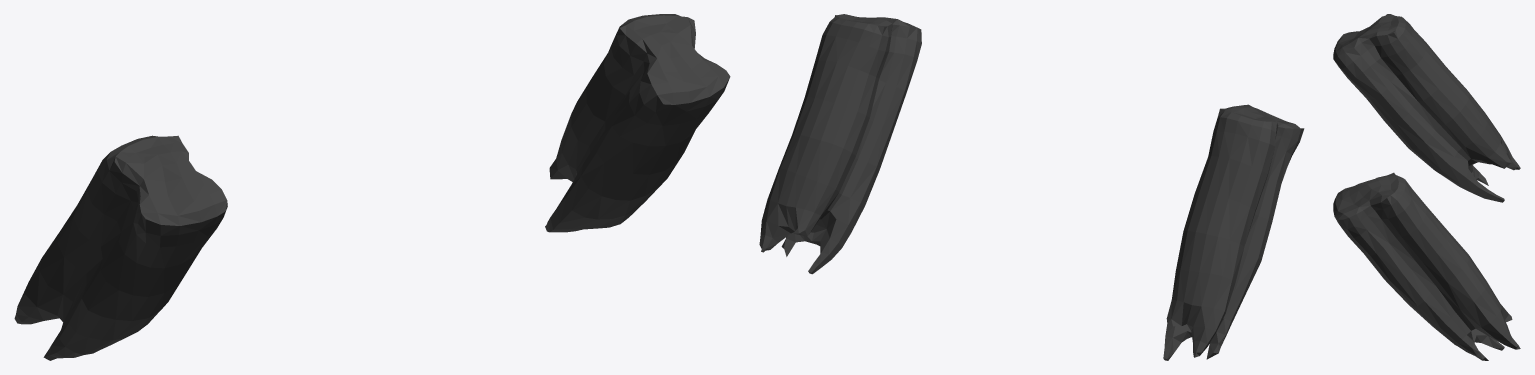
Rendered from L_mand_M1_LO.glb.
3 renders of one model, left to right at view 1: azimuth 30°, elevation 25°; view 2: azimuth 150°, elevation 25°; view 3: azimuth 270°, elevation 25°, orthographic. The views are drawn at different scales.
Visible parts, largest first — view 1: L_mand_M1_LO; view 2: L_mand_M1_LO; view 3: L_mand_M1_LO.
Part boxes in pixels (x1,y1,x2,y2): L_mand_M1_LO: [14, 14, 730, 360]; L_mand_M1_LO: [759, 14, 1304, 360]; L_mand_M1_LO: [1333, 14, 1520, 360].
Bounding box in the file's own units: 0.00112 × 0.000477 × 0.000466.
Materials: 1 (1 with a texture image).
